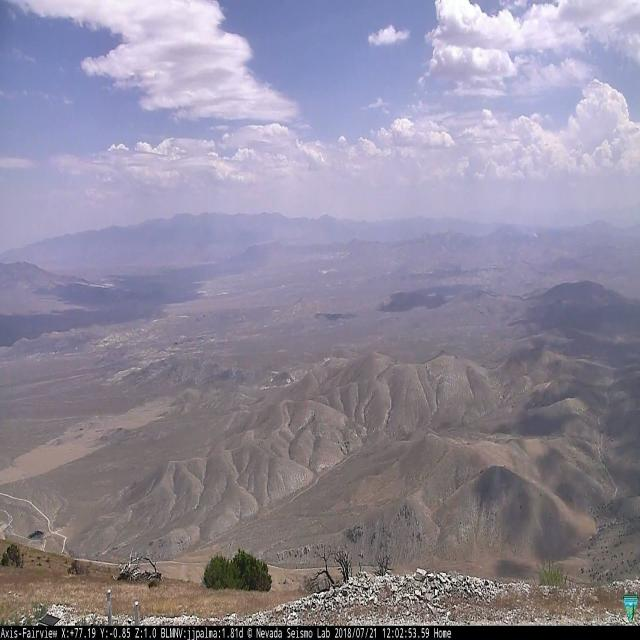smoke: (524, 229, 537, 237)
